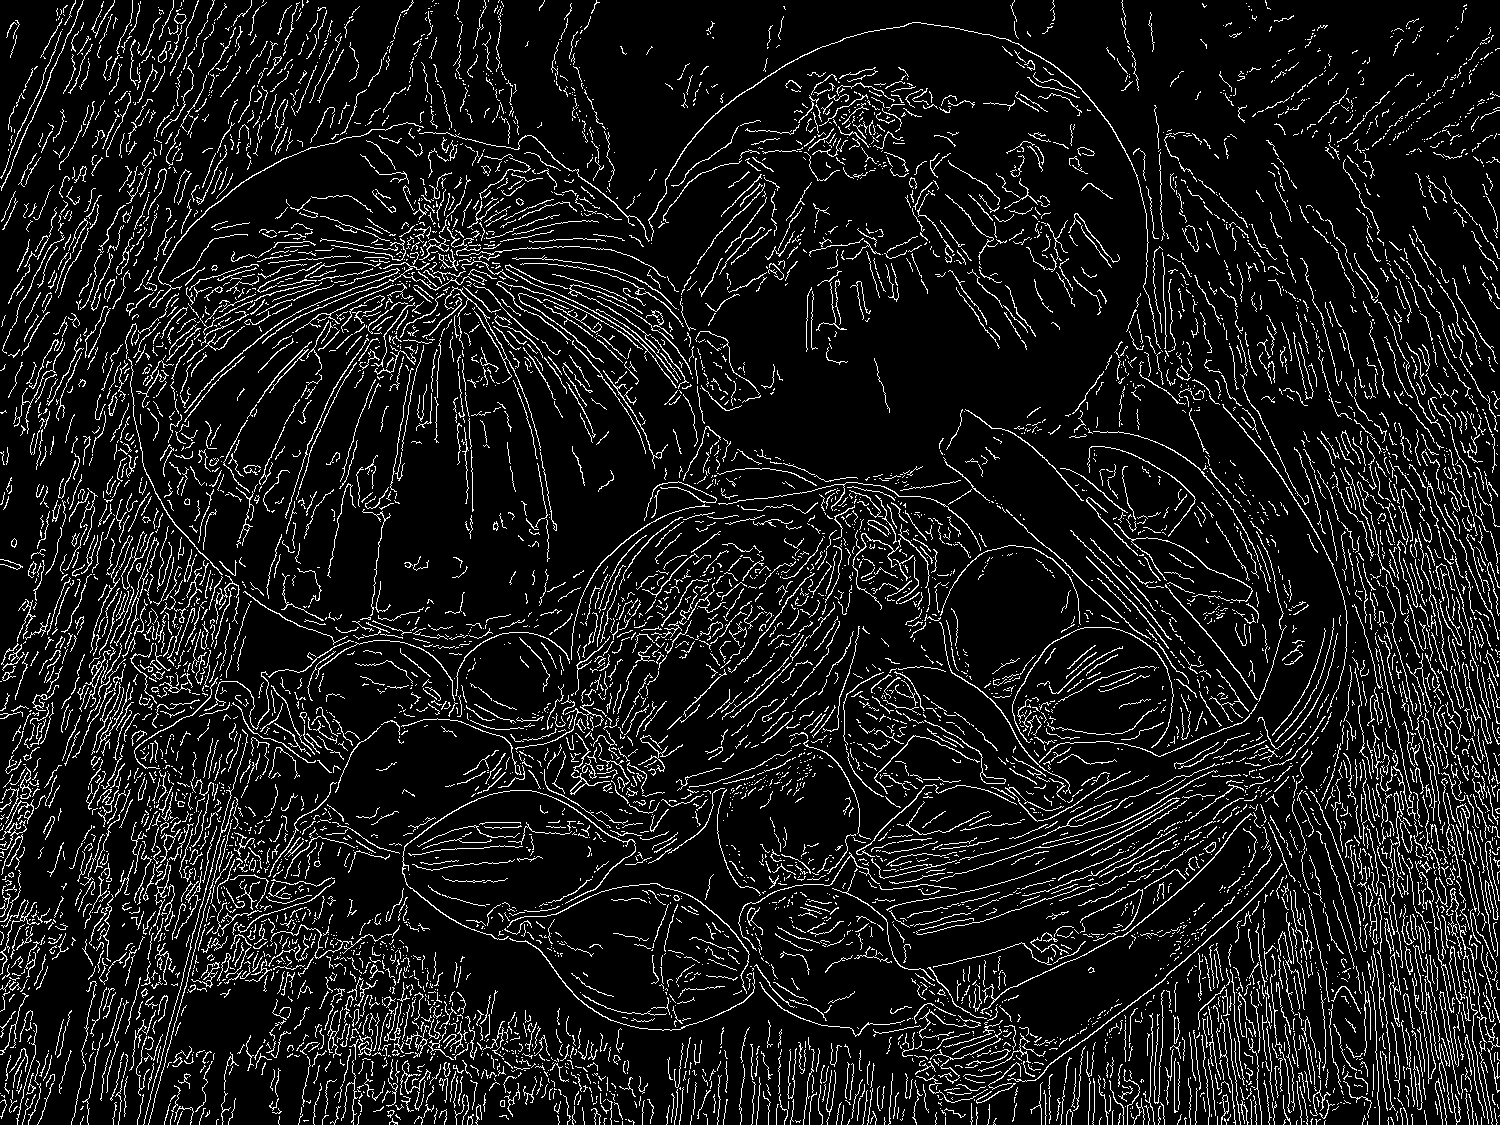onion: (137, 86, 710, 659), (653, 12, 1163, 466)
